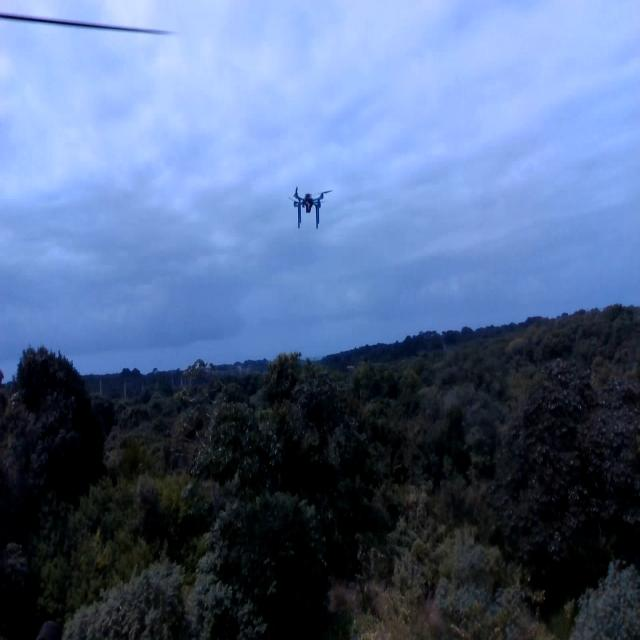-uav-: (288, 179, 332, 237)
